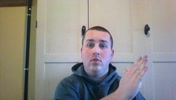Hand: (49, 77, 87, 100)
